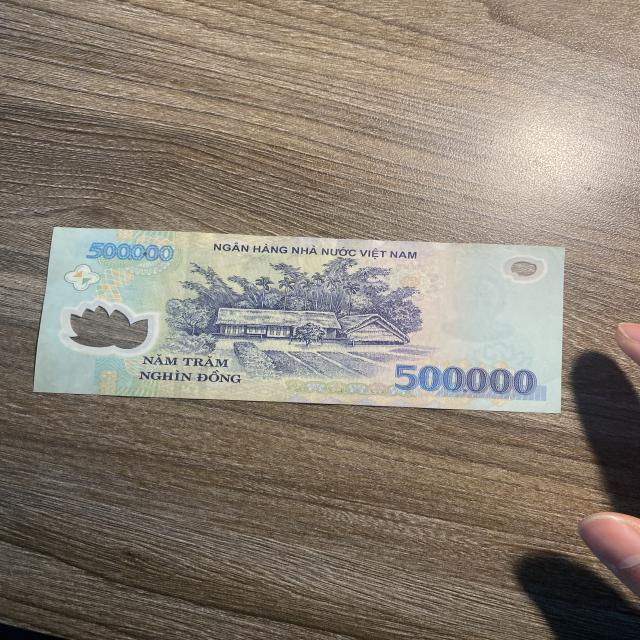500 000 VND: (30, 225, 567, 415)
